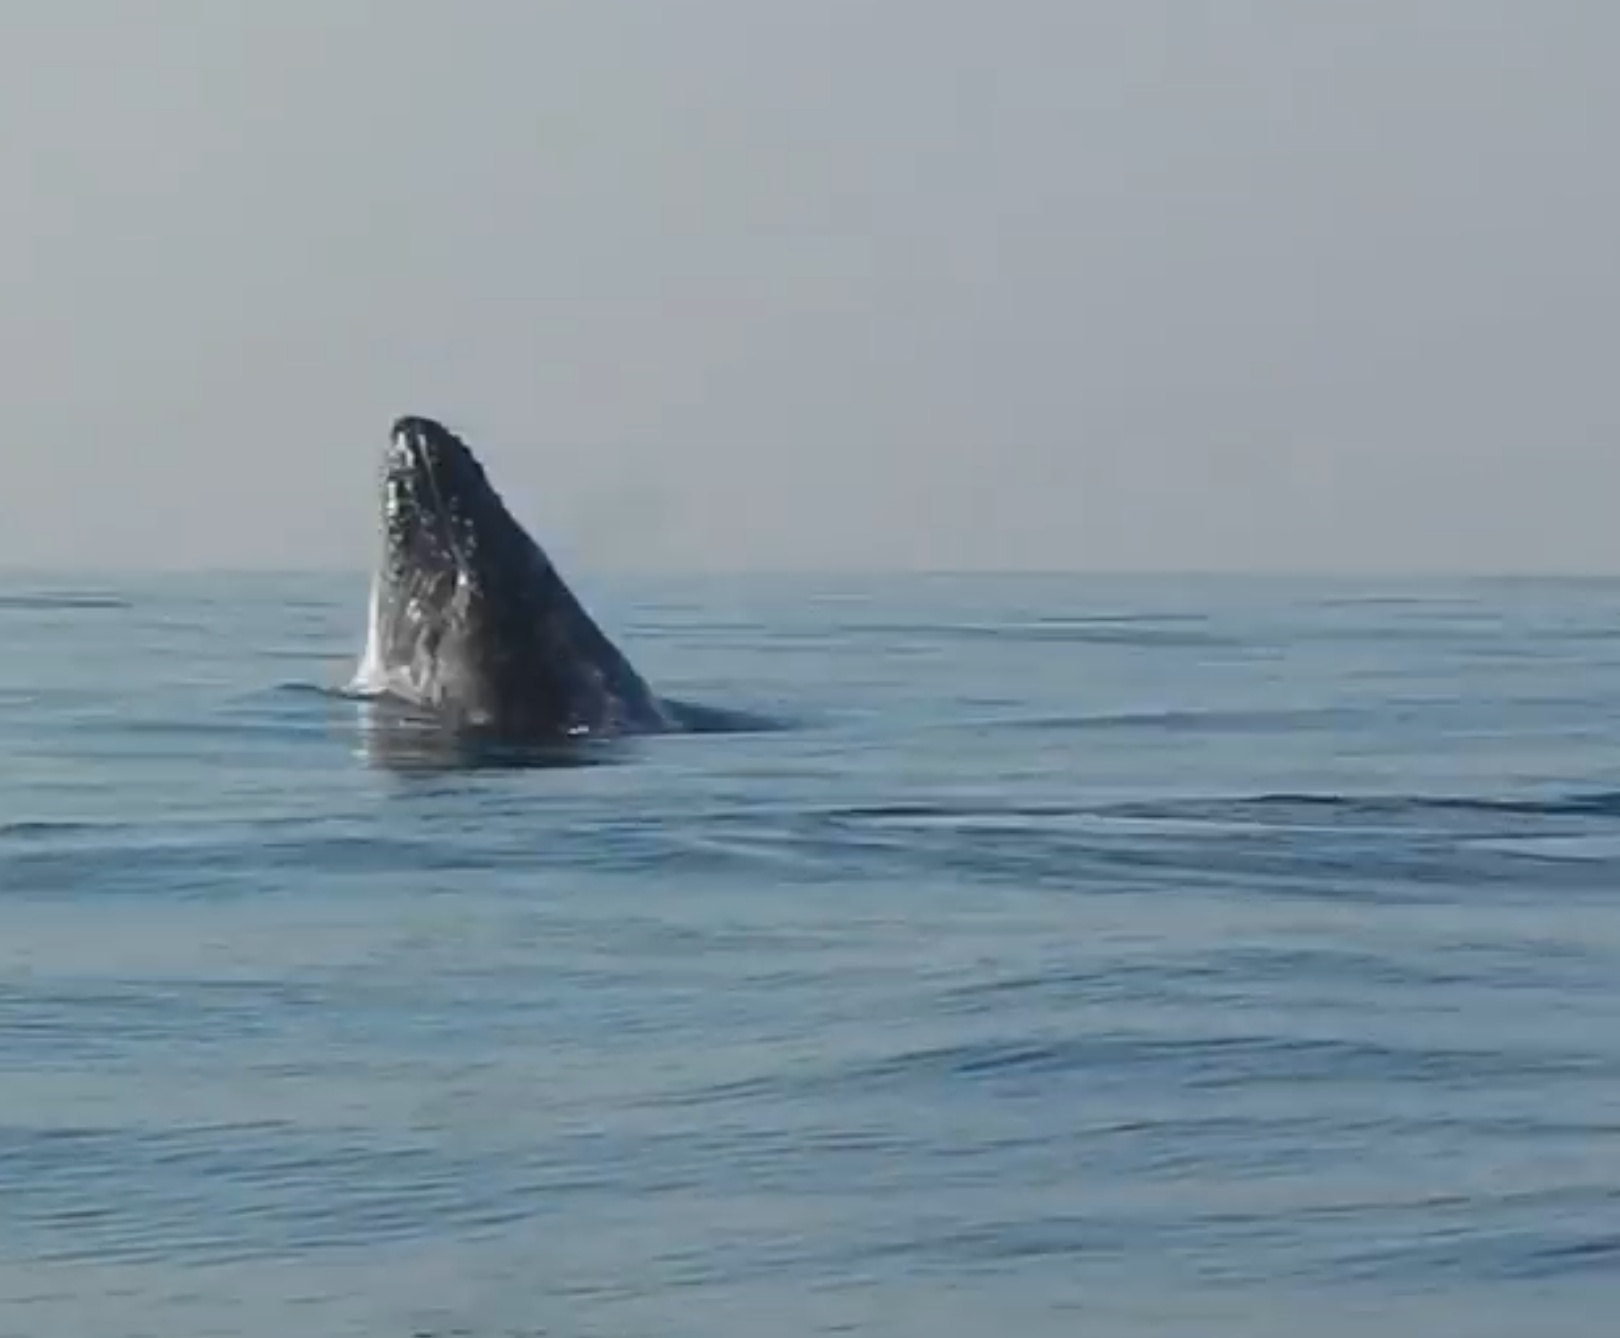humpback: (354, 407, 678, 731)
